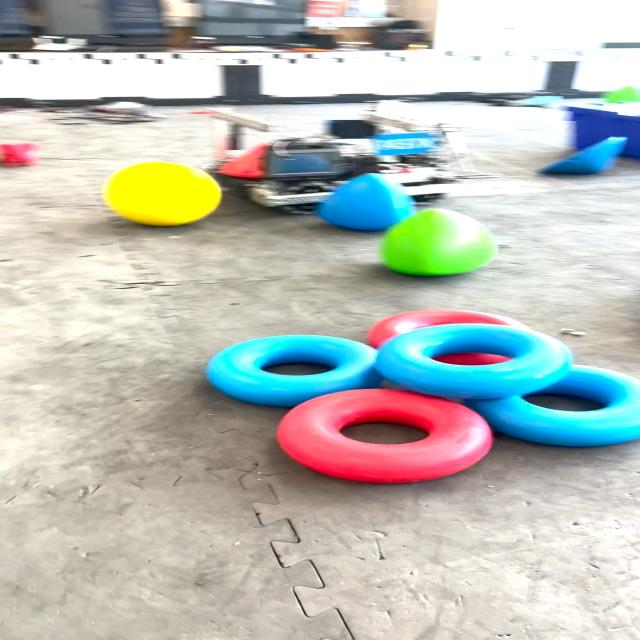Blue-Ring: (376, 324, 573, 399), (464, 365, 639, 446), (207, 335, 382, 406)
Red-Ring: (278, 389, 493, 482)
